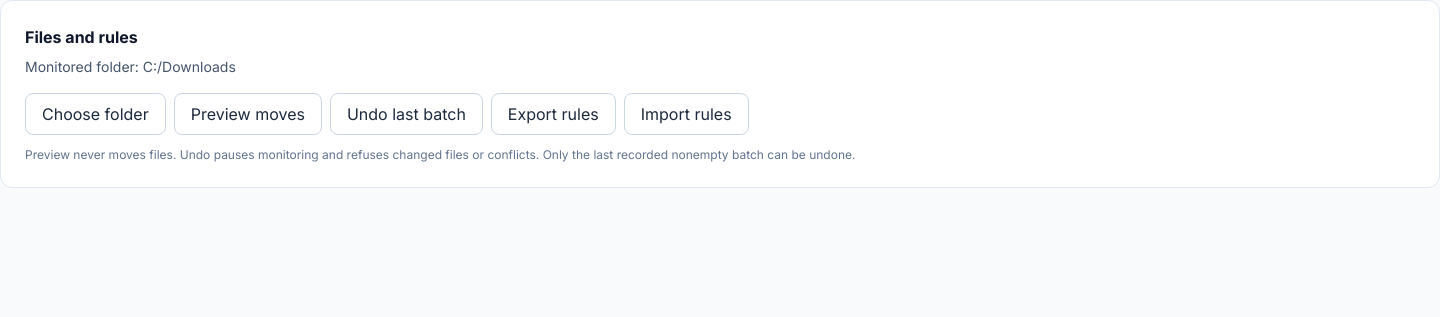
Scenario: FileTools › previews moves without invoking undo or folder changes
What coordinates should you click on to do the following:
click the button "Preview moves"
I would click on:
 (248, 114)
Its box is [174,93,322,135].
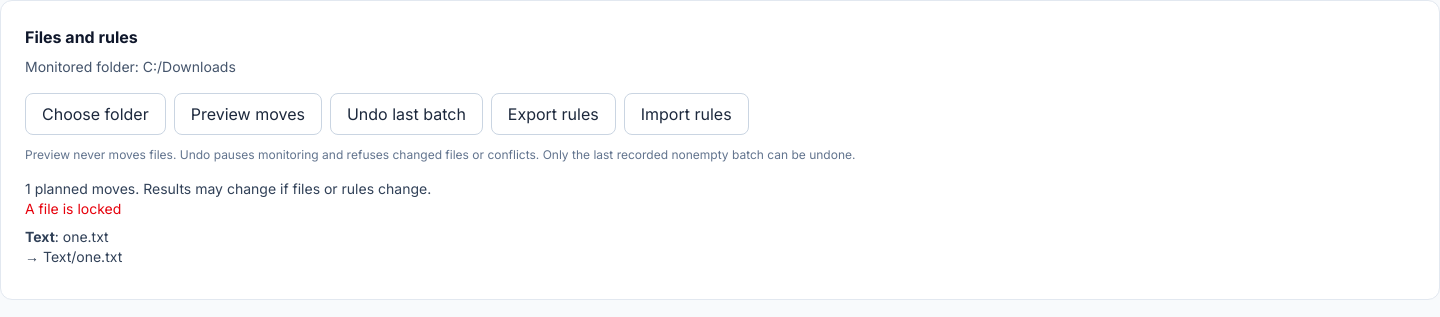
Expected: the text "1 planned moves" is shown, [25,180,431,197]
Expected: the message reads "A file is locked", [25,200,121,217]
